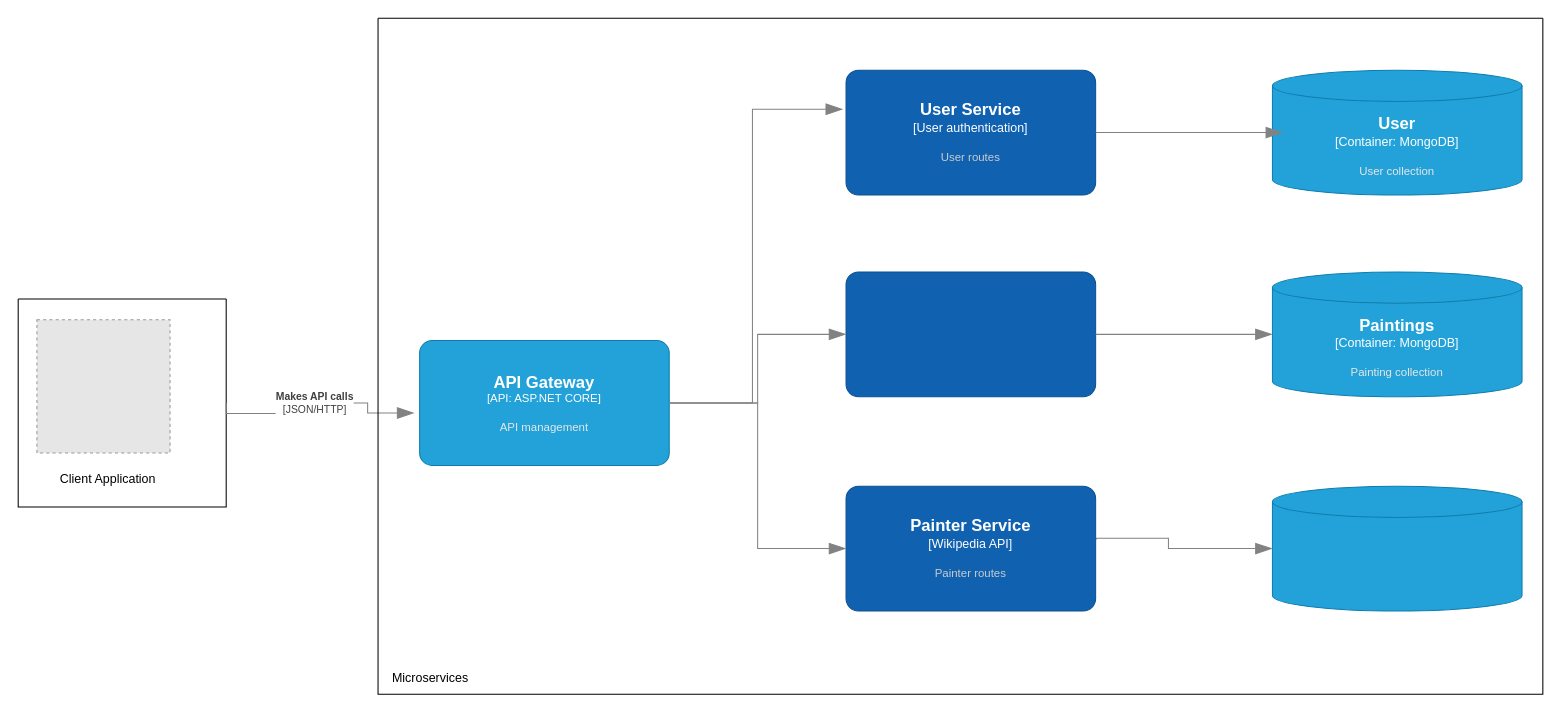
This 1561x712 diagram has some shape labels left out. Grey dashed boxes stand in for pictures. The shapes that lost their labels are listed below. From the top down, each one's centre as x and y in pixels, then its label:
point (970, 334): Image Processing Service [DeepFace] Painting routes
point (1396, 548): Painter [Container: MongoDB] Painter collection
